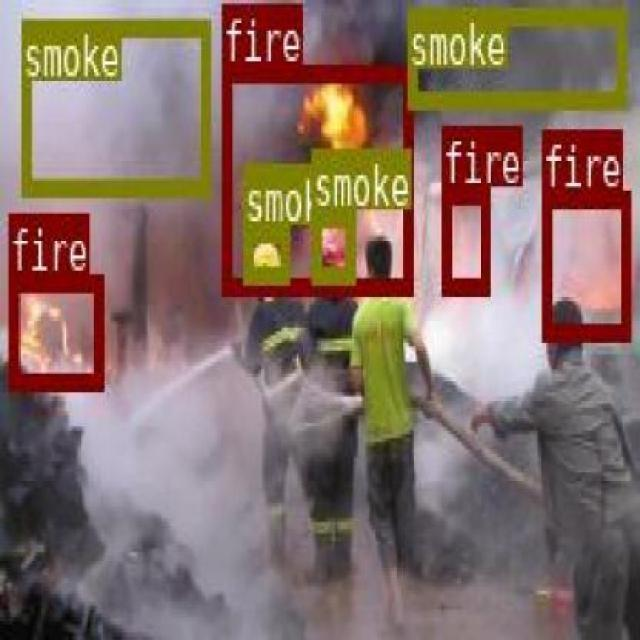fire: (221, 62, 412, 290), (540, 190, 629, 339), (7, 273, 101, 387), (440, 182, 488, 293)
smoke: (21, 16, 209, 193), (406, 6, 623, 105), (311, 207, 354, 280), (242, 222, 287, 281)
